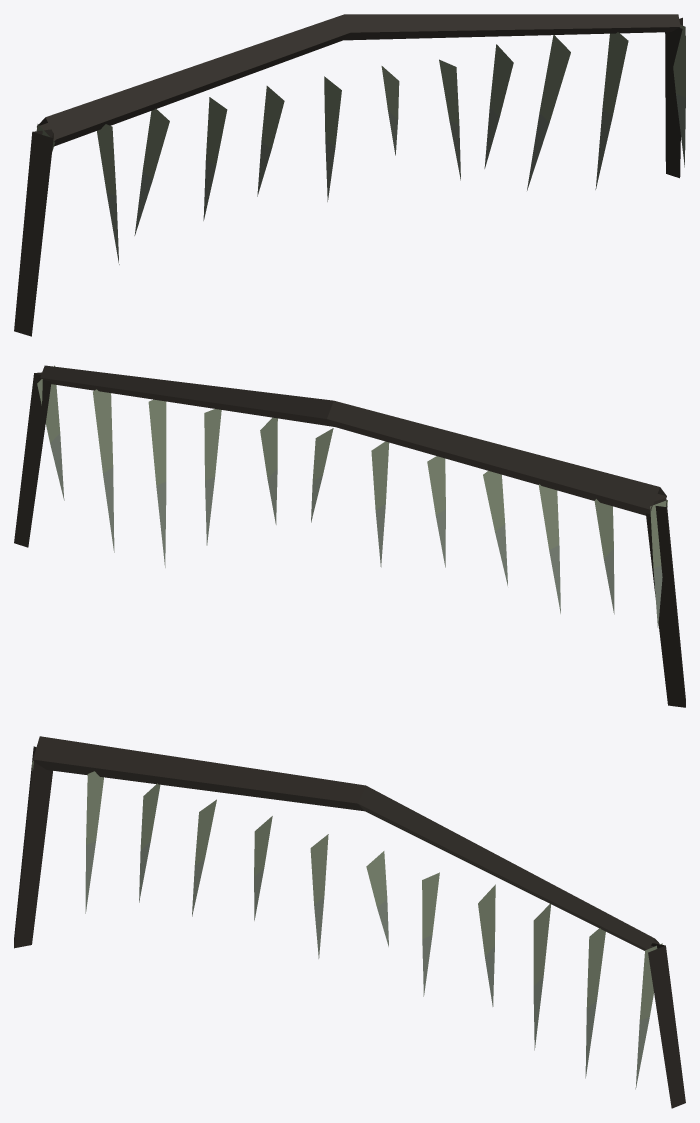
The model's file is old_mans_beard.glb.
3 views of the same model, one above another, from view 1: azimuth 30°, elevation 25°; view 2: azimuth 150°, elevation 25°; view 3: azimuth 330°, elevation 25° (orthographic).
Visible parts, largest first — view 1: old_mans_beard; view 2: old_mans_beard; view 3: old_mans_beard.
Part boxes in pixels (x1,y1,x2,y2): old_mans_beard: [14, 14, 685, 336]; old_mans_beard: [14, 365, 685, 707]; old_mans_beard: [14, 736, 685, 1108].
Size of the model in its own units: 0.6455 by 0.213 by 0.0739.
